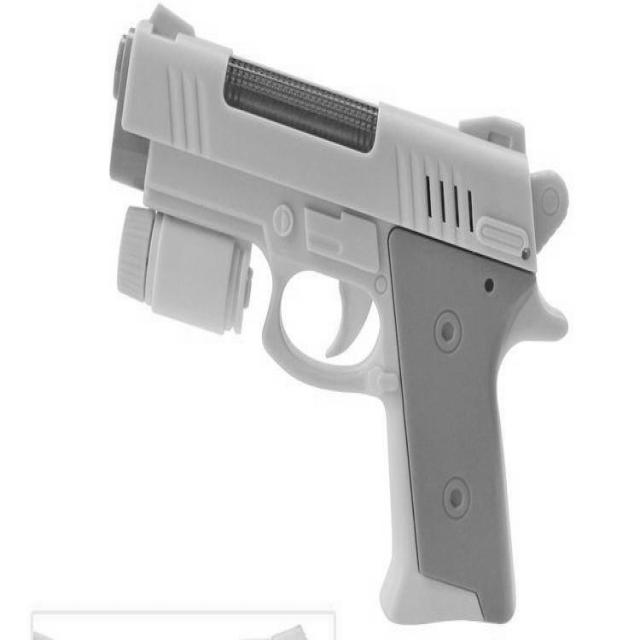gun: (108, 2, 569, 626)
